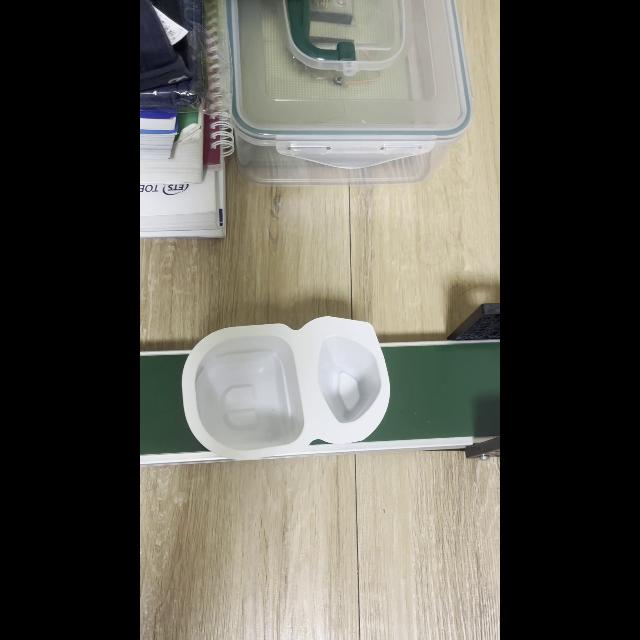clean: (190, 331, 380, 444)
